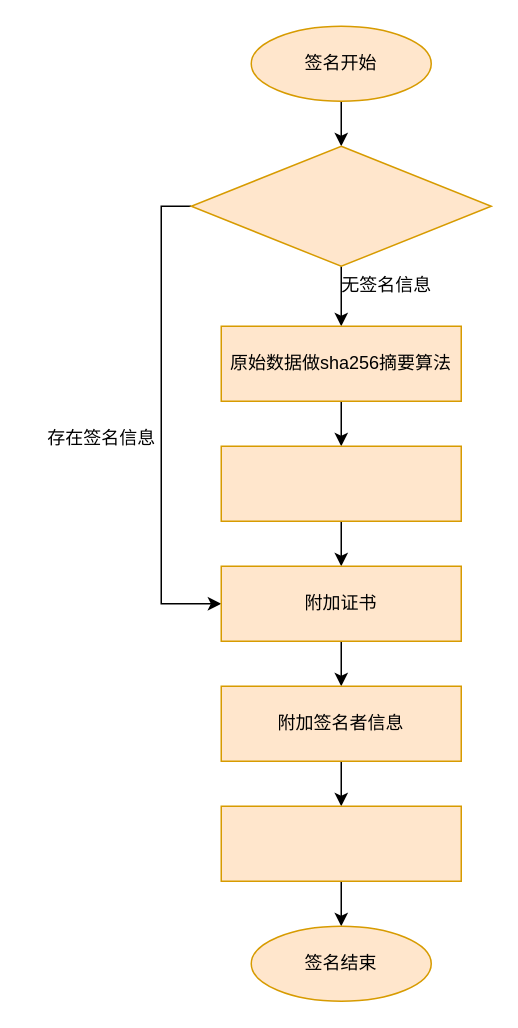
This 518x1028 diagram has some shape labels left out. The box of each missing label's shape, as (x1, y1, x2, y2) in pixels:
填充contentinfo字段: (220, 445, 461, 521)
检查签名文件是不存在签名信息: (190, 145, 491, 266)
签名数据SignedData附加到文件和DEB包中: (220, 805, 461, 881)
